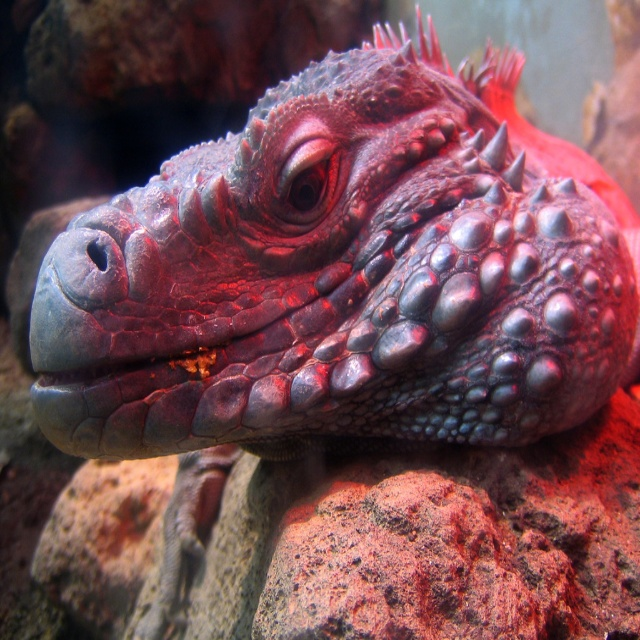Lizard: (48, 49, 616, 545)
